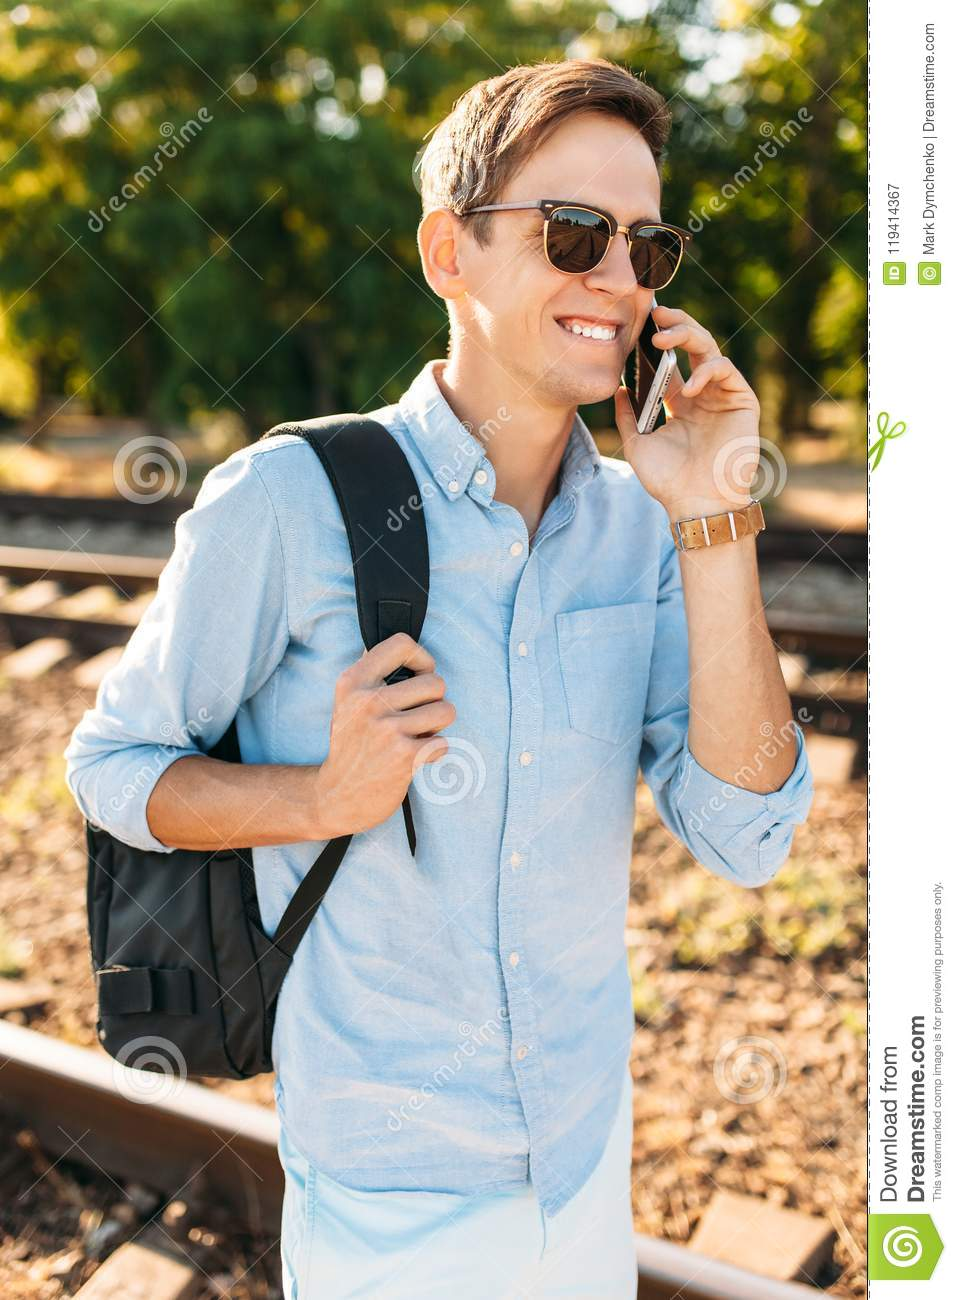phone: (624, 298, 678, 439)
talk: (511, 184, 761, 531)
